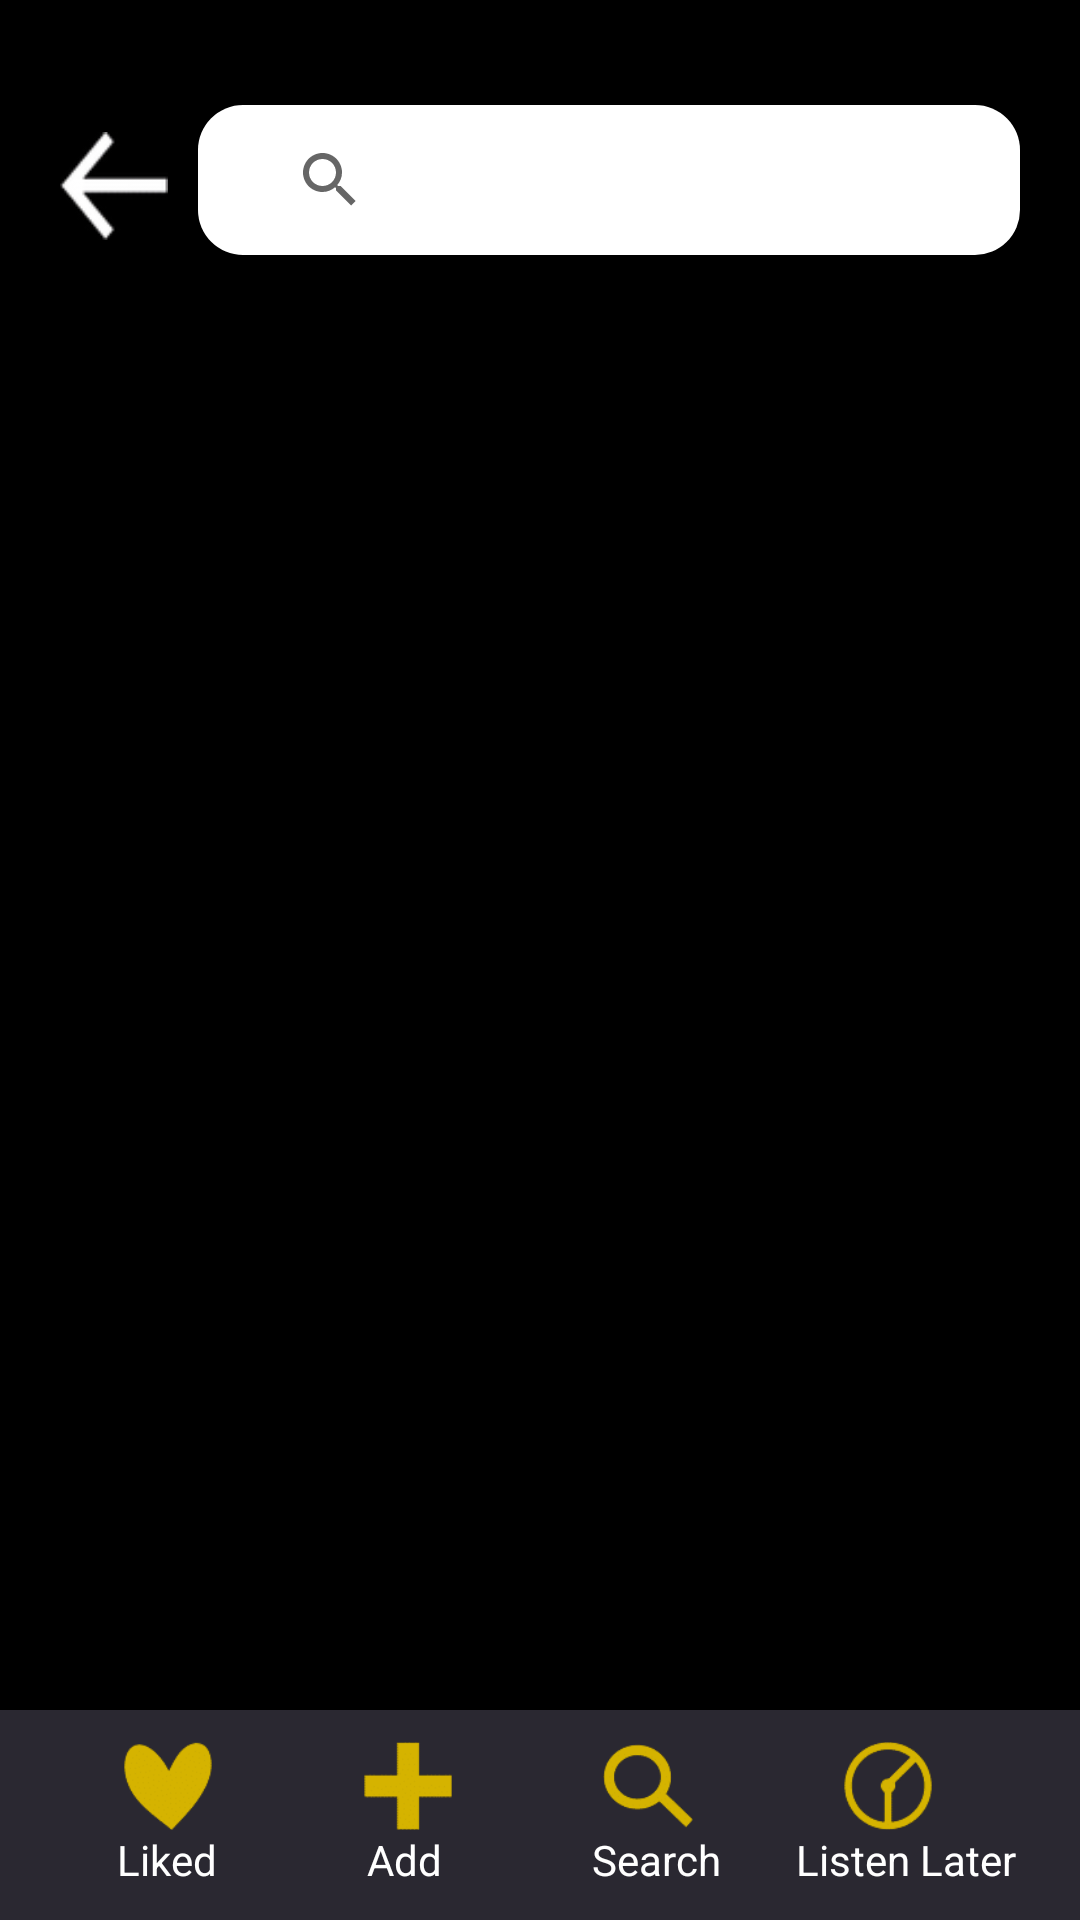

Where icons sit on this 1080*1920 app screen, as BBox(x1, y1, x2, y2):
backarrow page: BBox(60, 132, 168, 240)
